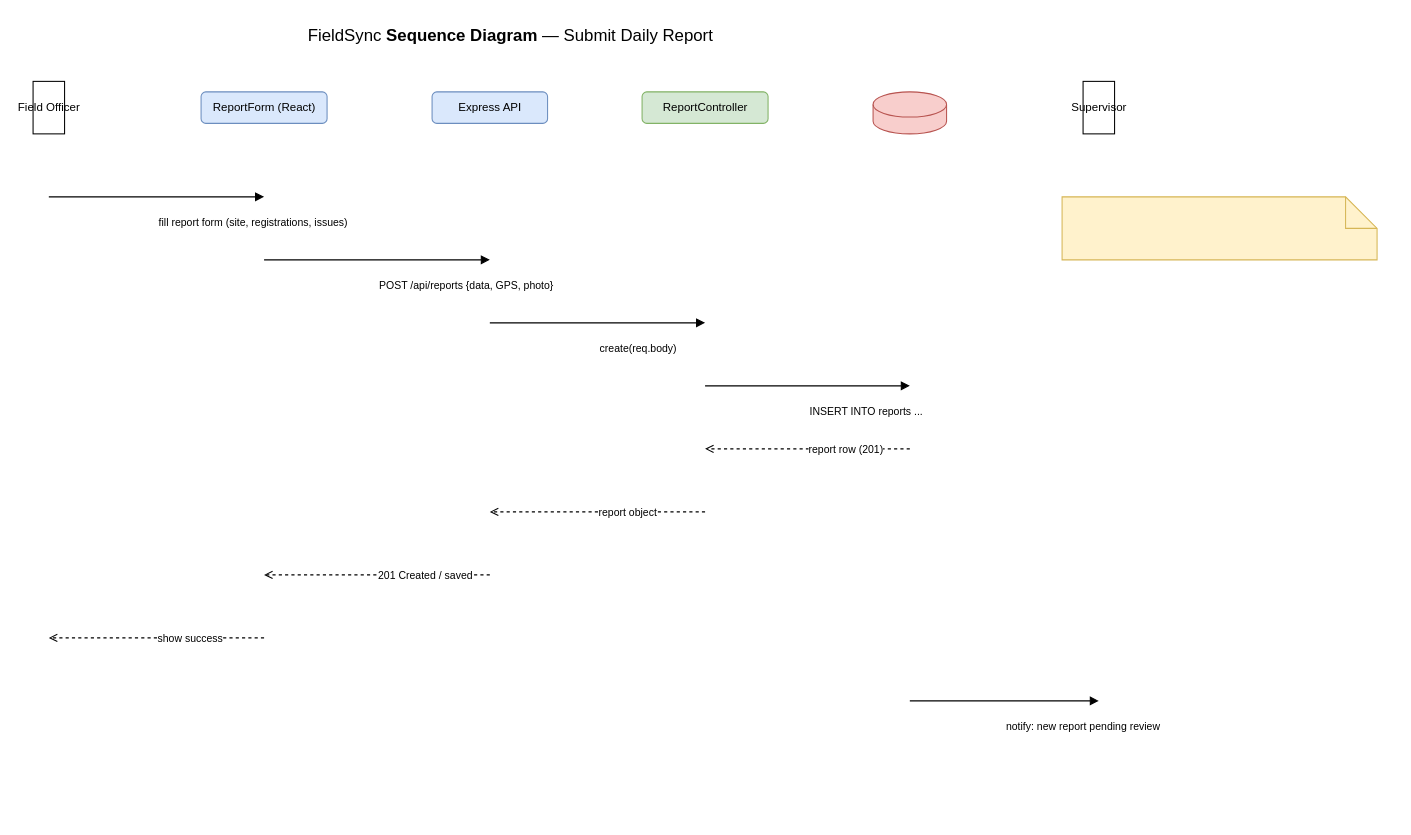
The diagram is 1411 pixels wide and 835 high, and some of its shapes have lost their labels. Here are the shapes that lost their labels. From the top down, the centre of each, then its label:
At pixel 909 112: "PostgreSQL".
At pixel 1219 228: "Offline: React saves to local IndexedDB and syncs later via sync controller.".
